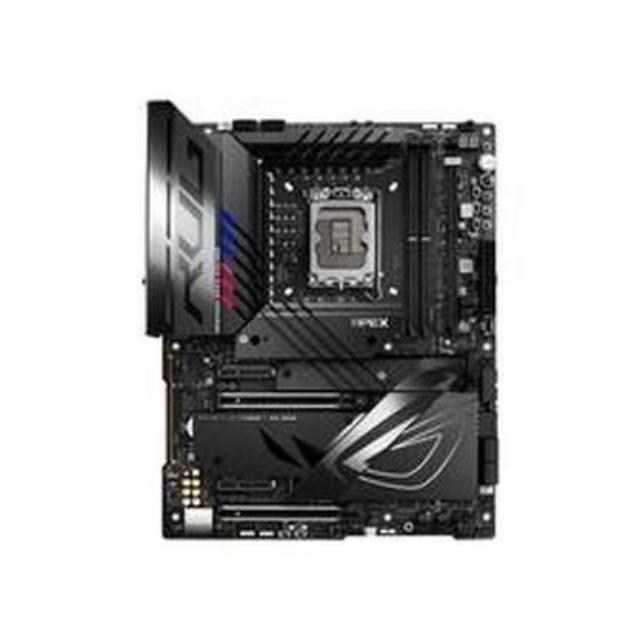Mainboard: (155, 110, 496, 545)
